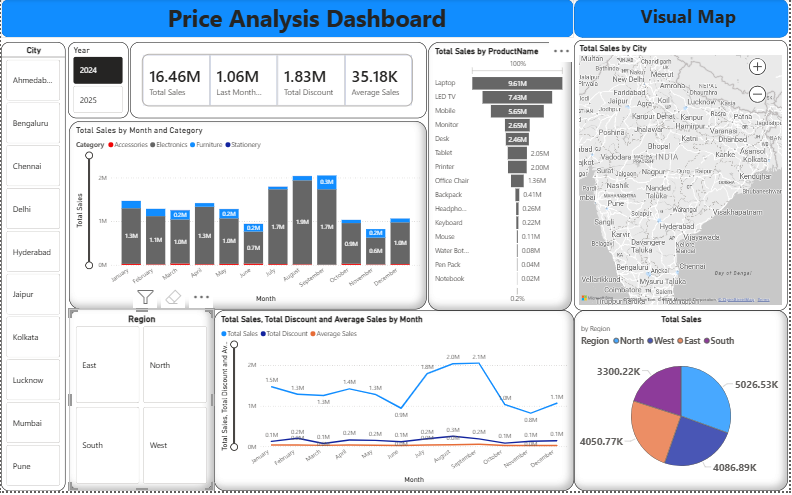

This screenshot's page, from the dashboard's own definition file:
{"tool":"powerbi","page":{"name":"Page 1","canvas":[1600,1000],"ordinal":0},"visuals":[{"type":"lineChart","fields":{"Y":["Order_Details.Total Sales","Order_Details.Total Discount","Order_Details.Average Sales"],"Category":["DateTable.Date.Variation.Date Hierarchy.Month"]},"box":[432.9,632.1,731.7,367.9],"z":0},{"type":"advancedSlicerVisual","fields":{"Values":["DateTable.Date.Variation.Date Hierarchy.Year"]},"box":[135.5,87.5,122.5,155],"z":1000},{"type":"cardVisual","fields":{"Data":["Order_Details.Total Sales","DateTable.Last Month Sales","Order_Details.Total Discount","Order_Details.Average Sales"]},"box":[262.1,87.5,602.5,155],"z":2000},{"type":"pieChart","fields":{"Category":["Order_Details.Region"],"Y":["Order_Details.Total Sales"]},"box":[1163.8,632.5,435,367.5],"z":3000},{"type":"filledMap","fields":{"Category":["Order_Details.City"]},"box":[1165,82.5,433.8,550],"z":4000},{"type":"advancedSlicerVisual","fields":{"Values":["Order_Details.City"]},"box":[0,87.1,131.4,912.9],"z":5000},{"type":"shape","box":[1164.3,0,435.7,78.6],"z":6000,"group":"g2"},{"type":"funnel","title":"Total Sales by ProductName","fields":{"Category":["Top 10 Product.ProductName"],"Y":["Sum(Top 10 Product.Total Sales)"]},"box":[868.8,87.1,292.1,545.7],"z":6000},{"type":"columnChart","fields":{"Category":["DateTable.Date.Variation.Date Hierarchy.Month"],"Series":["Order_Details.Category"],"Y":["Order_Details.Total Sales"]},"box":[138.6,247.1,727.1,382.9],"z":7000},{"type":"group","id":"g1","title":"Group 1","box":[0,0,1164.3,78.6],"z":8000},{"type":"group","id":"g2","title":"Group 3","box":[1164.3,0,435.7,78.6],"z":9000},{"type":"advancedSlicerVisual","fields":{"Values":["Order_Details.Region"]},"box":[139,630,294,370],"z":9001},{"type":"shape","box":[0,0,1164.3,78.6],"z":13000,"group":"g3"},{"type":"textbox","box":[334.3,0,680,78.6],"z":13500,"group":"g3"},{"type":"group","id":"g3","title":"Group 2","box":[0,0,1164.3,78.6],"z":13502,"group":"g1"},{"type":"textbox","box":[1251.4,4.3,300,65.7],"z":13502,"group":"g2"}]}

Visuals, with their boxes in screenshot pixels (x1, y1, x2, y2), scaled from the page's 1600x1000 canvas onto the 792x495 screenshot:
lineChart - Order_Details.Total Sales x Order_Details.Total Discount: (214,313,576,494)
advancedSlicerVisual - DateTable.Date.Variation.Date Hierarchy.Year: (67,43,128,120)
cardVisual - Order_Details.Total Sales x DateTable.Last Month Sales: (130,43,428,120)
pieChart - Order_Details.Region x Order_Details.Total Sales: (576,313,791,494)
filledMap - Order_Details.City: (577,41,791,313)
advancedSlicerVisual - Order_Details.City: (0,43,65,494)
shape: (576,0,791,39)
"Total Sales by ProductName" funnel: (430,43,575,313)
columnChart - DateTable.Date.Variation.Date Hierarchy.Month x Order_Details.Category: (69,122,429,312)
"Group 1" group: (0,0,576,39)
"Group 3" group: (576,0,791,39)
advancedSlicerVisual - Order_Details.Region: (69,312,214,494)
shape: (0,0,576,39)
textbox: (165,0,502,39)
"Group 2" group: (0,0,576,39)
textbox: (619,2,768,35)
